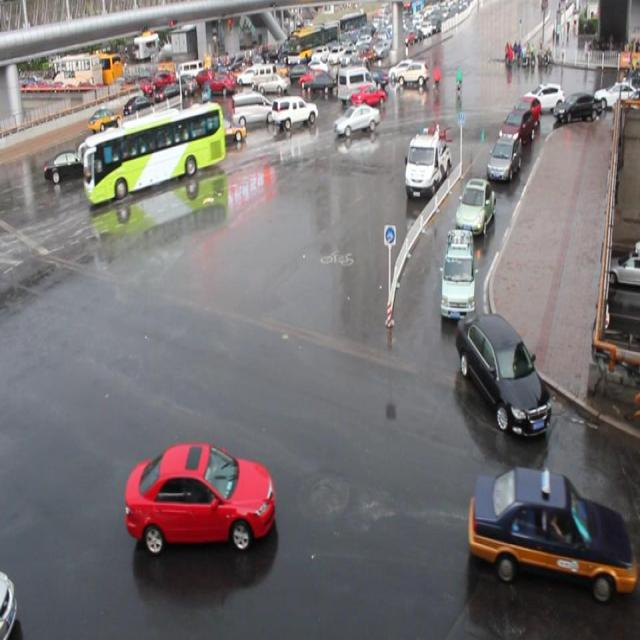bus: (403, 129, 450, 202)
car: (467, 464, 640, 601), (123, 441, 273, 551), (456, 309, 550, 436), (440, 230, 476, 319), (454, 178, 496, 234), (199, 112, 247, 150), (44, 148, 96, 183), (144, 126, 192, 160), (166, 108, 209, 144), (485, 135, 520, 178), (272, 95, 317, 128), (333, 105, 379, 137), (498, 108, 532, 144), (113, 129, 153, 158), (517, 94, 543, 132), (350, 82, 385, 109)
truck: (233, 90, 275, 125), (336, 65, 377, 100)
van: (83, 101, 223, 202)
